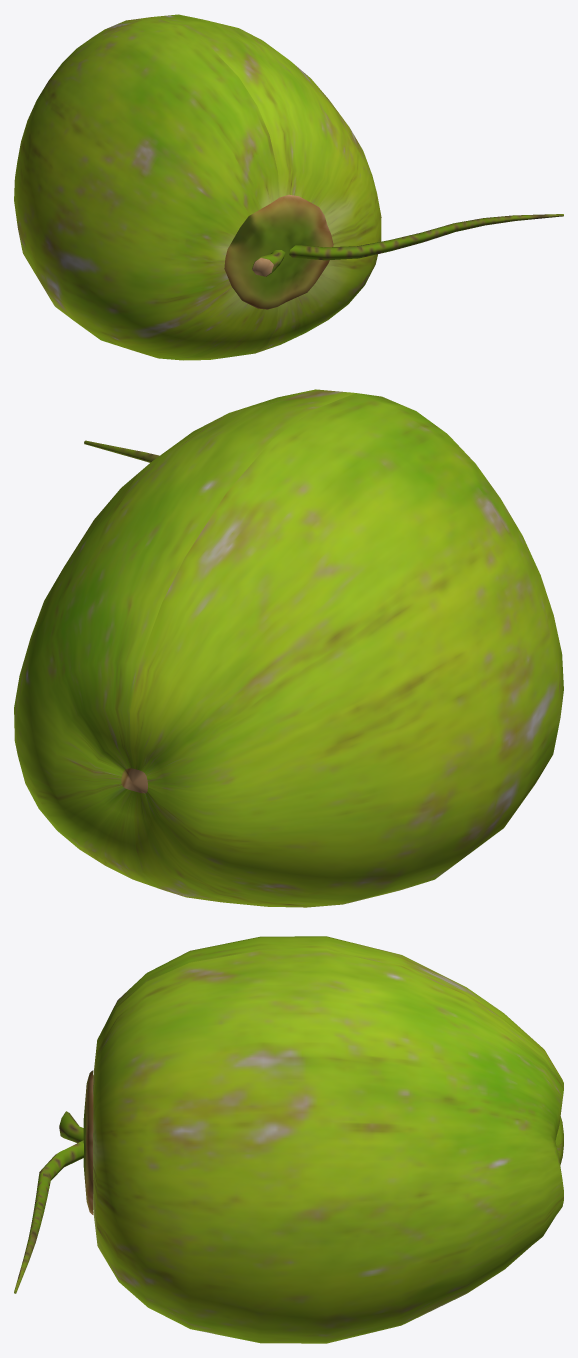
Rendered from greenCoconut_1.fbx.
3 renders of one model, top to bottom at view 1: azimuth 30°, elevation 25°; view 2: azimuth 150°, elevation 25°; view 3: azimuth 270°, elevation 25°, orthographic. The views are drawn at different scales.
Visible parts, largest first — view 1: Sphere; view 2: Sphere; view 3: Sphere.
Part boxes in pixels (box(x1,y1,x2,y2)): Sphere: box(14, 14, 563, 360); Sphere: box(14, 389, 563, 907); Sphere: box(14, 936, 563, 1343).
Bounding box in the file's own units: 256 × 183 × 250.
